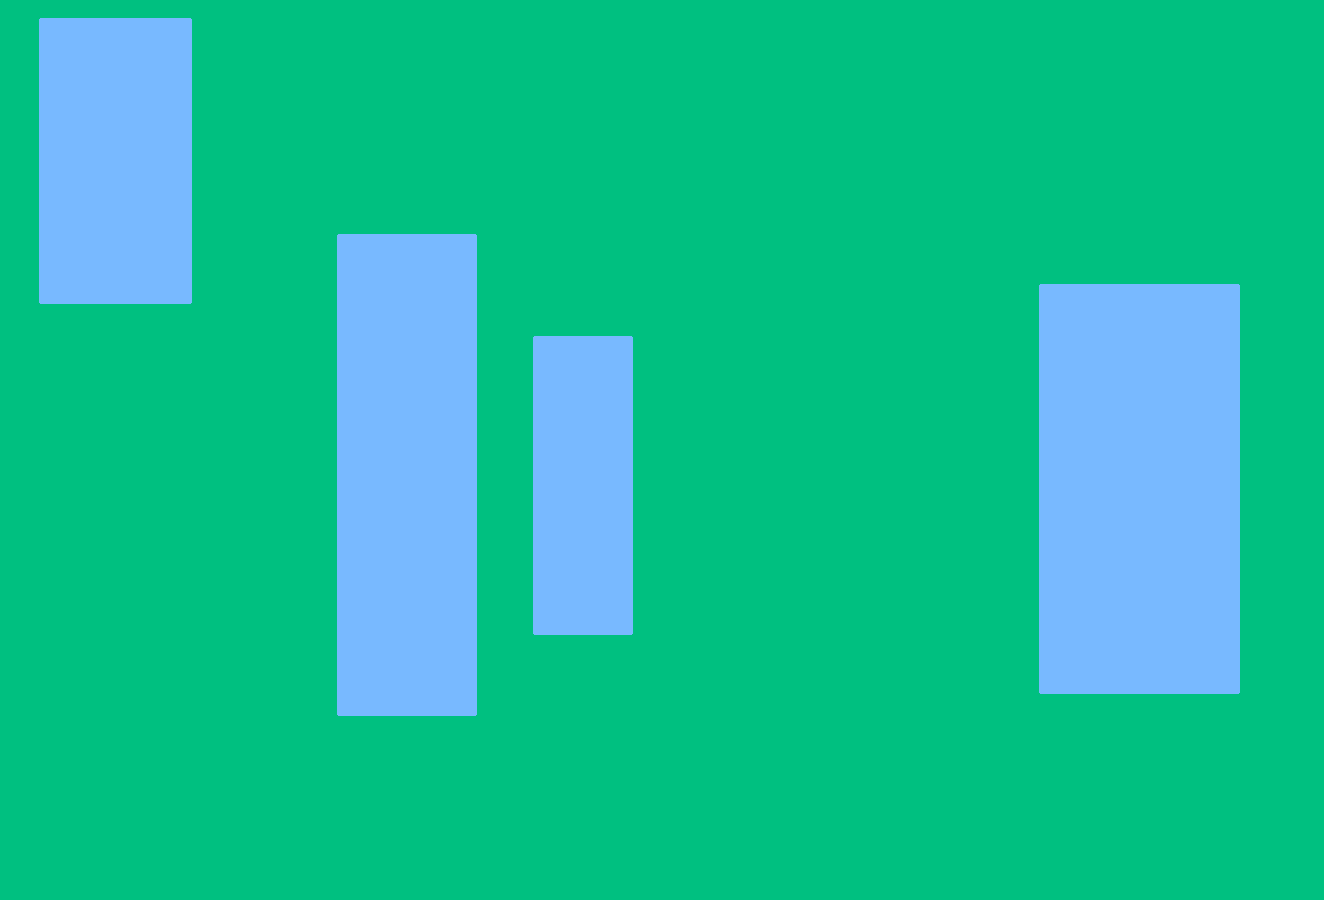Text_area: (1040, 285, 1238, 692), (338, 235, 475, 714), (40, 19, 190, 302), (534, 338, 631, 633)
